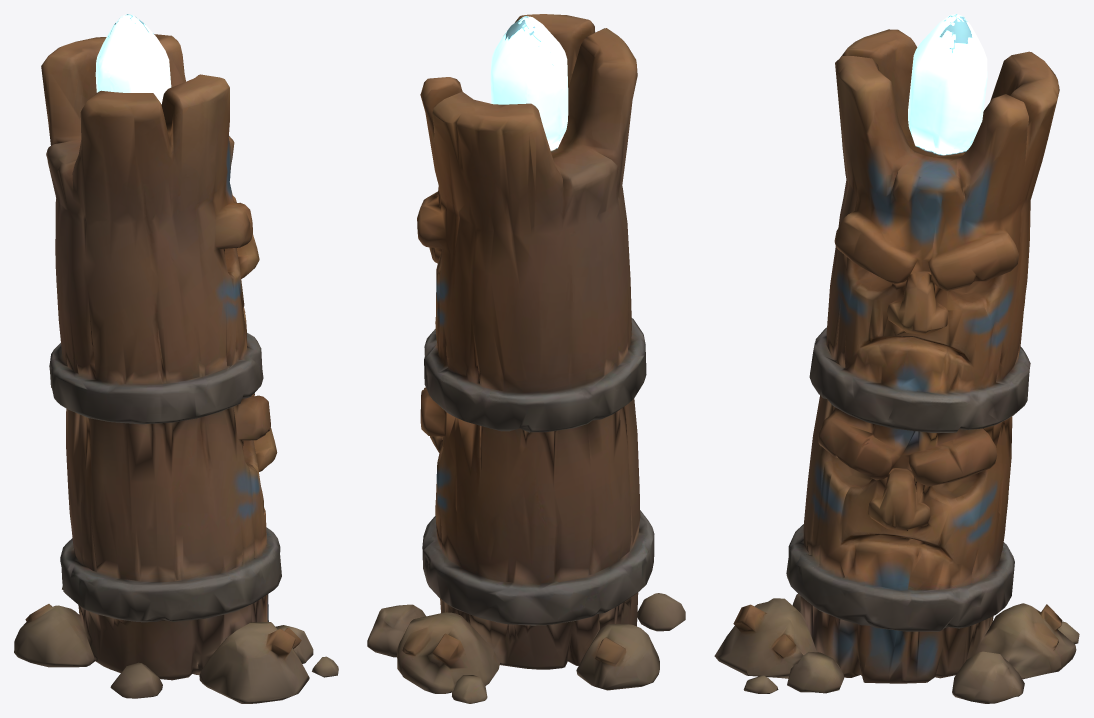
File: skill_totem-C3esLaUw.glb
3 views of the same model, side by side, from view 1: azimuth 30°, elevation 25°; view 2: azimuth 150°, elevation 25°; view 3: azimuth 270°, elevation 25° (orthographic). The views are drawn at different scales.
Visible parts, largest first — view 1: tripo_node_b9afec7f-31a6-4216-9bf3-a7a9ad1562f4; view 2: tripo_node_b9afec7f-31a6-4216-9bf3-a7a9ad1562f4; view 3: tripo_node_b9afec7f-31a6-4216-9bf3-a7a9ad1562f4.
Part boxes in pixels (x1,y1,x2,y2): tripo_node_b9afec7f-31a6-4216-9bf3-a7a9ad1562f4: (14,14,338,703); tripo_node_b9afec7f-31a6-4216-9bf3-a7a9ad1562f4: (367,14,685,703); tripo_node_b9afec7f-31a6-4216-9bf3-a7a9ad1562f4: (714,14,1079,703).
Size of the model in its own units: 0.4245 by 1 by 0.5296.
Materials: 1 (1 with a texture image).
